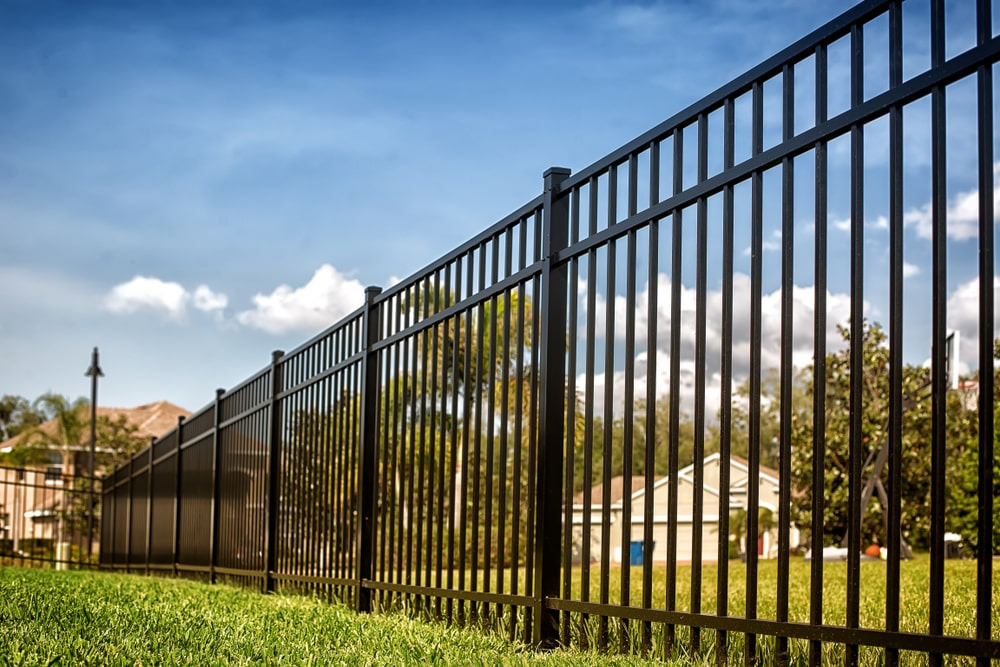Valla: (553, 12, 998, 667), (366, 223, 528, 631), (271, 323, 360, 605)
